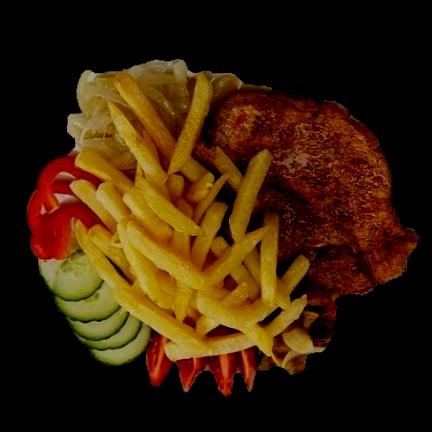cucumber: (38, 249, 151, 366)
meat: (191, 93, 421, 307)
potato: (67, 76, 312, 362)
tomato: (27, 158, 95, 259)
